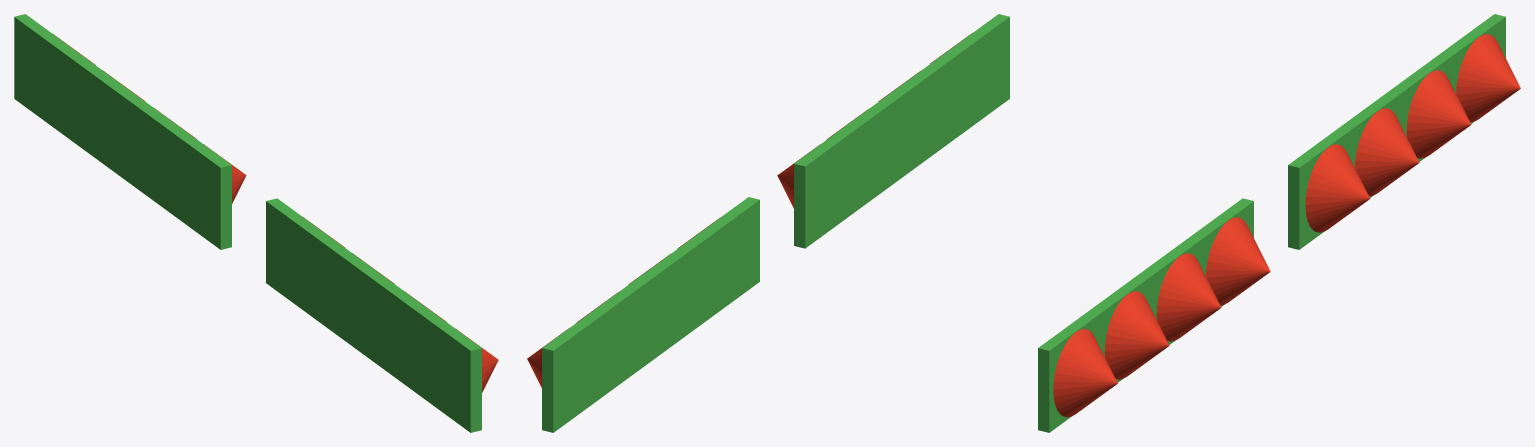
The model's file is Pinchos.fbx.
The picture shows the model from 3 angles, left to right: view 1: azimuth 30°, elevation 25°; view 2: azimuth 150°, elevation 25°; view 3: azimuth 330°, elevation 25°; orthographic projection.
Visible parts, largest first — view 1: Cube; view 2: Cube; view 3: Cube.
Part boxes in pixels (x1,y1,x2,y2): Cube: (14, 14, 498, 432); Cube: (527, 14, 1009, 432); Cube: (1038, 14, 1520, 432).
Size of the model in its own units: 138 by 200 by 2016.
